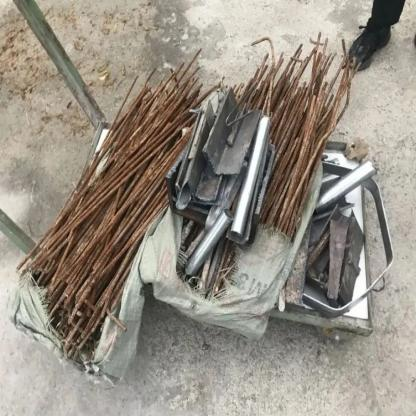rebar: (24, 57, 223, 362), (246, 30, 352, 243)
